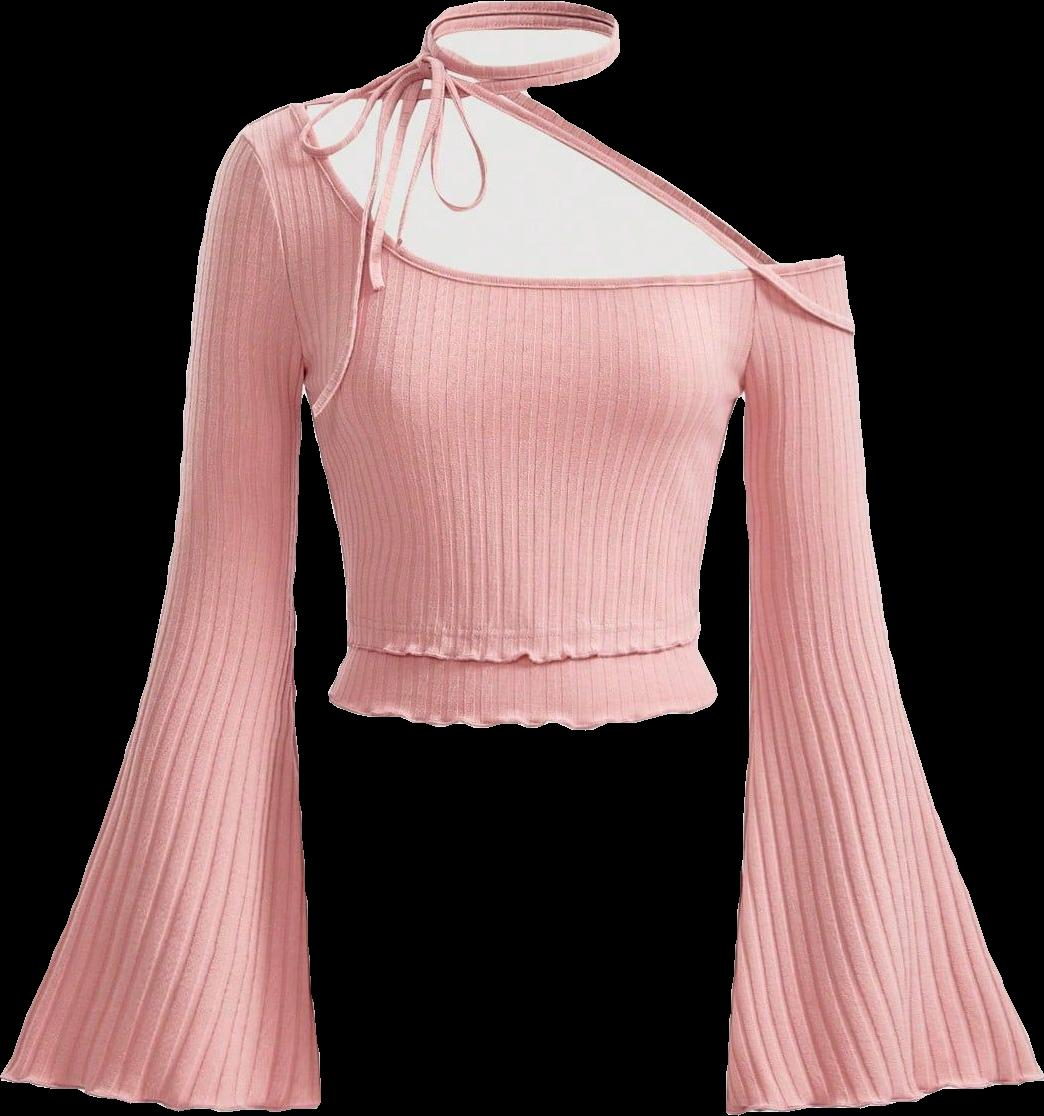Bodice: (237, 103, 764, 729)
Neckline: (295, 103, 767, 286), (345, 631, 701, 664)
Sleeve: (0, 137, 320, 1111), (726, 255, 1043, 1114)
Sleeveline: (235, 131, 314, 399), (732, 250, 843, 396)
Waistline: (324, 683, 724, 729)
